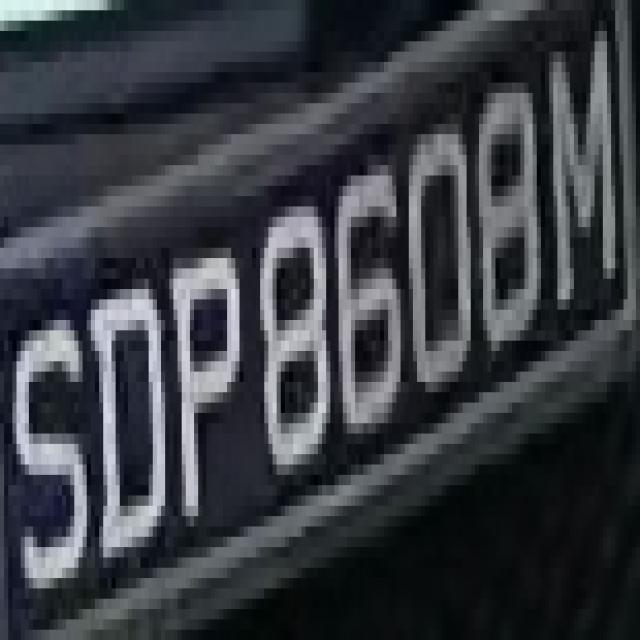0: (396, 124, 479, 423)
6: (326, 145, 409, 454)
8: (256, 175, 330, 496), (479, 72, 553, 362)
D: (87, 258, 165, 578)
M: (532, 21, 628, 340)
P: (161, 217, 252, 557)
S: (0, 278, 91, 598)
